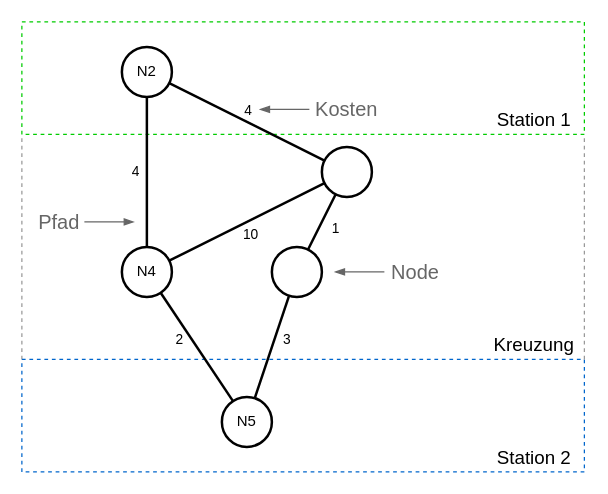
This 608x494 diagram has some shape labels left out. Here are the shapes that lost their labels. From the top down, the box of each, then its label:
(320, 145, 372, 198): N1
(270, 245, 322, 298): N3
